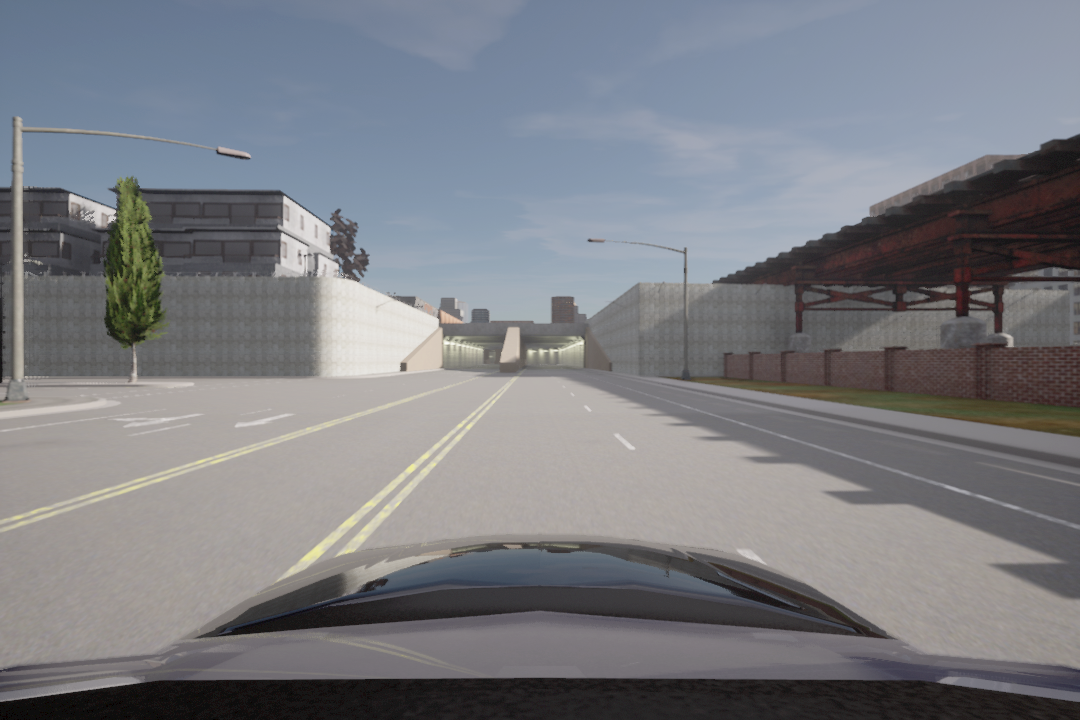RoadSign_forward: (231, 411, 299, 427)
RoadSign_forward_right: (108, 412, 212, 427)
